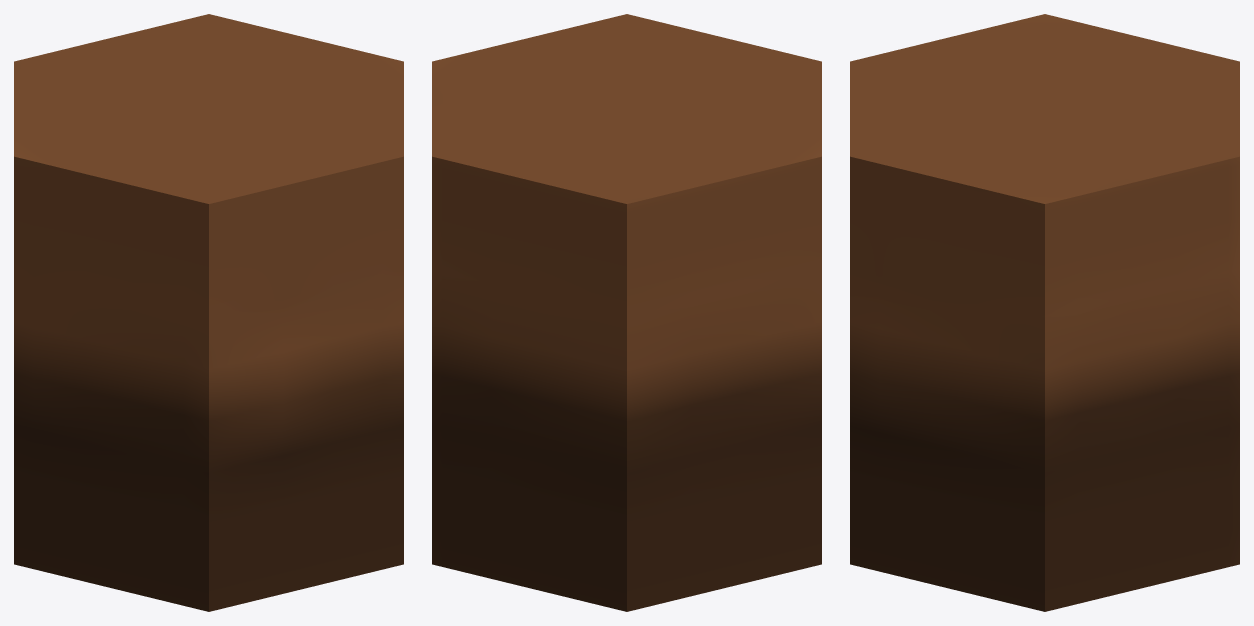
The model's file is Chair.fbx.
3 views of the same model, side by side, from view 1: azimuth 30°, elevation 25°; view 2: azimuth 150°, elevation 25°; view 3: azimuth 270°, elevation 25° (orthographic).
Parts seen in each view (by area): view 1: pCylinder4; view 2: pCylinder4; view 3: pCylinder4.
Part boxes in pixels (x1,y1,x2,y2): pCylinder4: (14,14,403,611); pCylinder4: (432,14,821,611); pCylinder4: (850,14,1239,611).
Size of the model in its own units: 0.1116 by 0.1116 by 0.0967.
